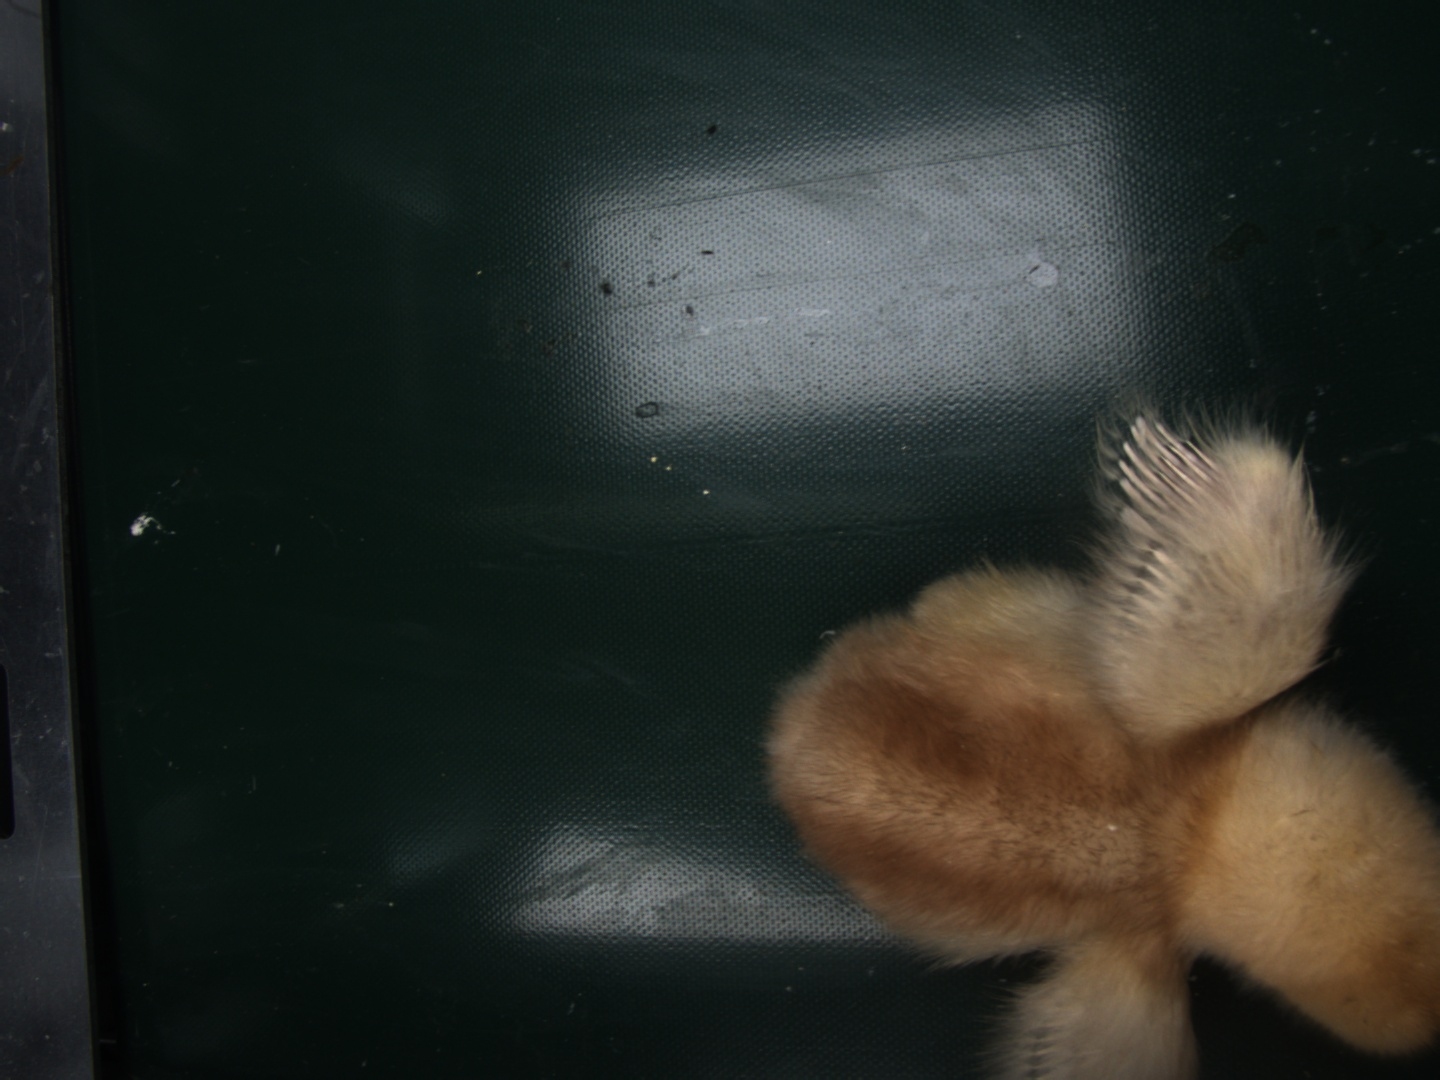female: (1117, 414, 1220, 529)
